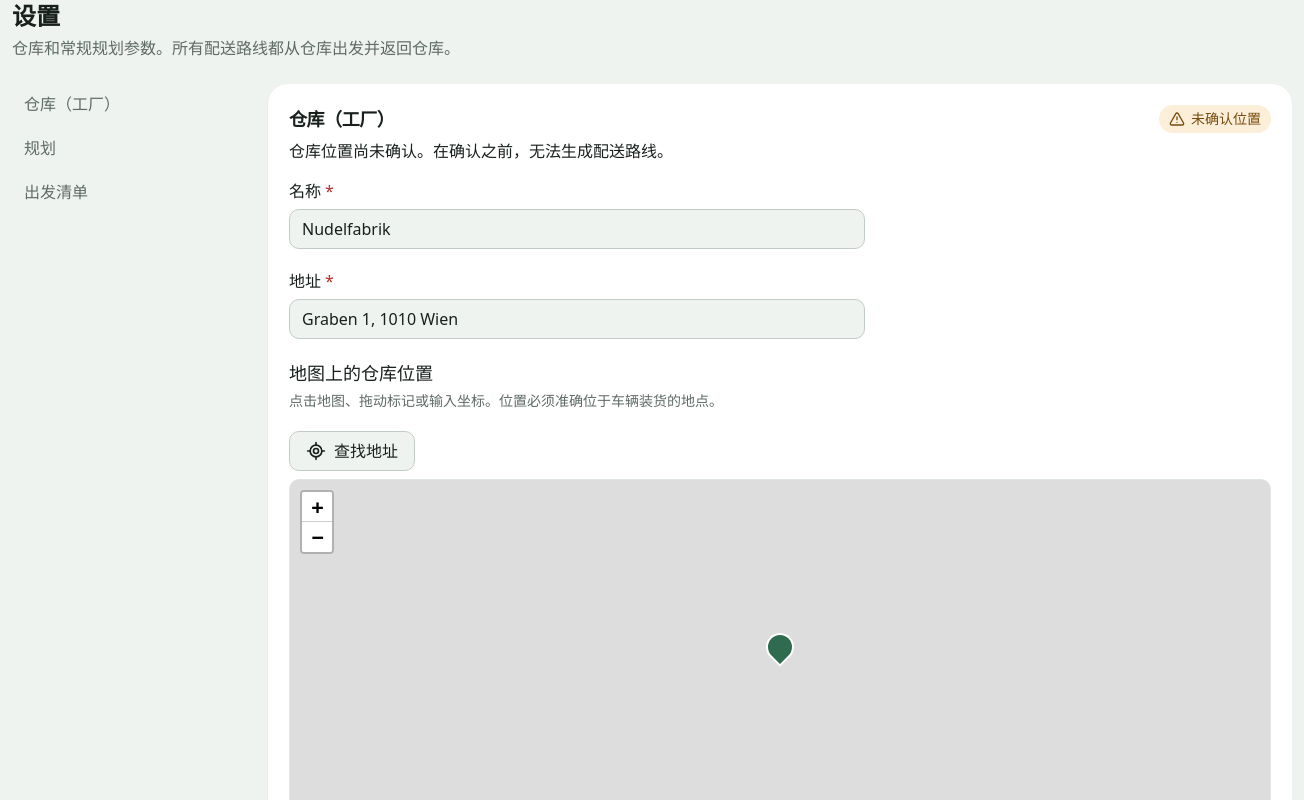
Test: SettingsForm › renders its texts in Simplified Chinese without missing keys
Expected: the heading with test id "section-title" reads "设置", [12,0,60,32]
Replace the text in the field labelled "名称" with "仓库" at (577, 229), box [289,209,865,249]
(page scrolled)
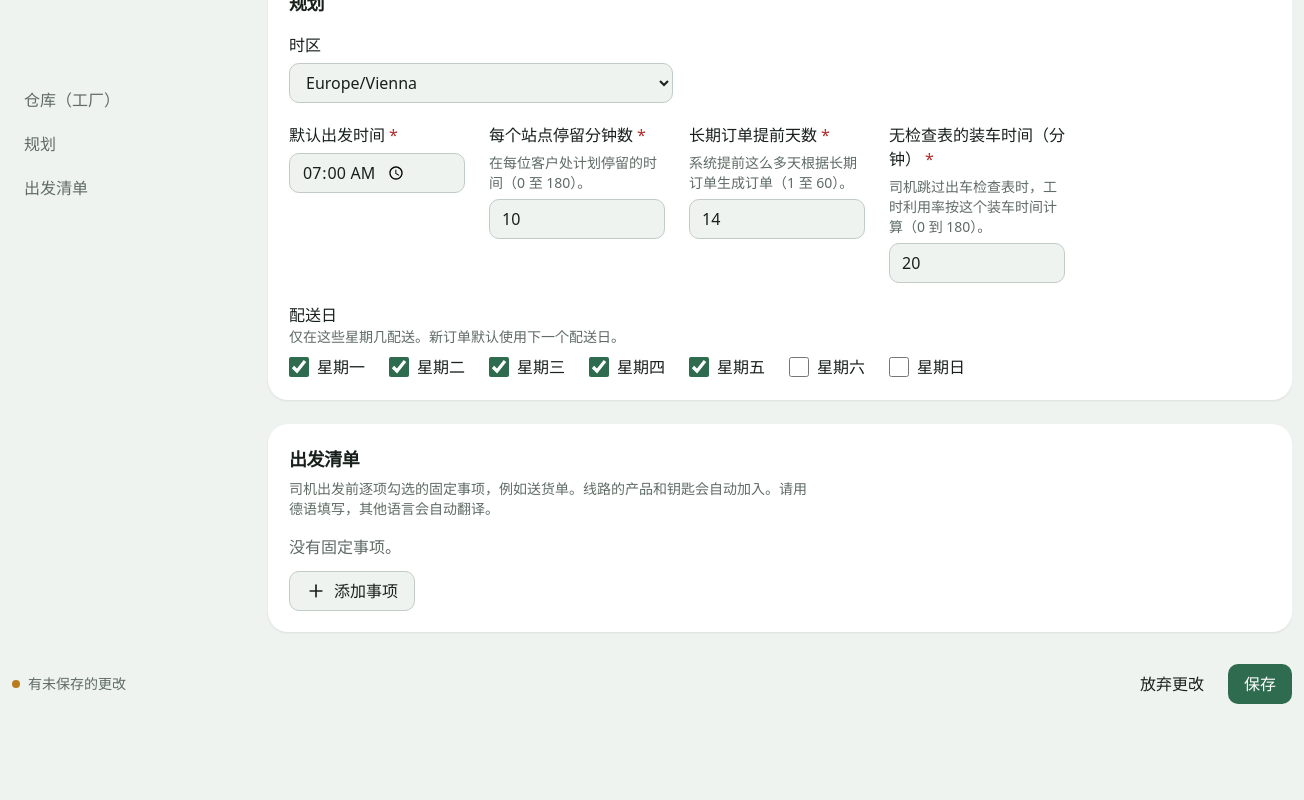
Now the text "有未保存的更改" is shown, box [12,674,126,694]
